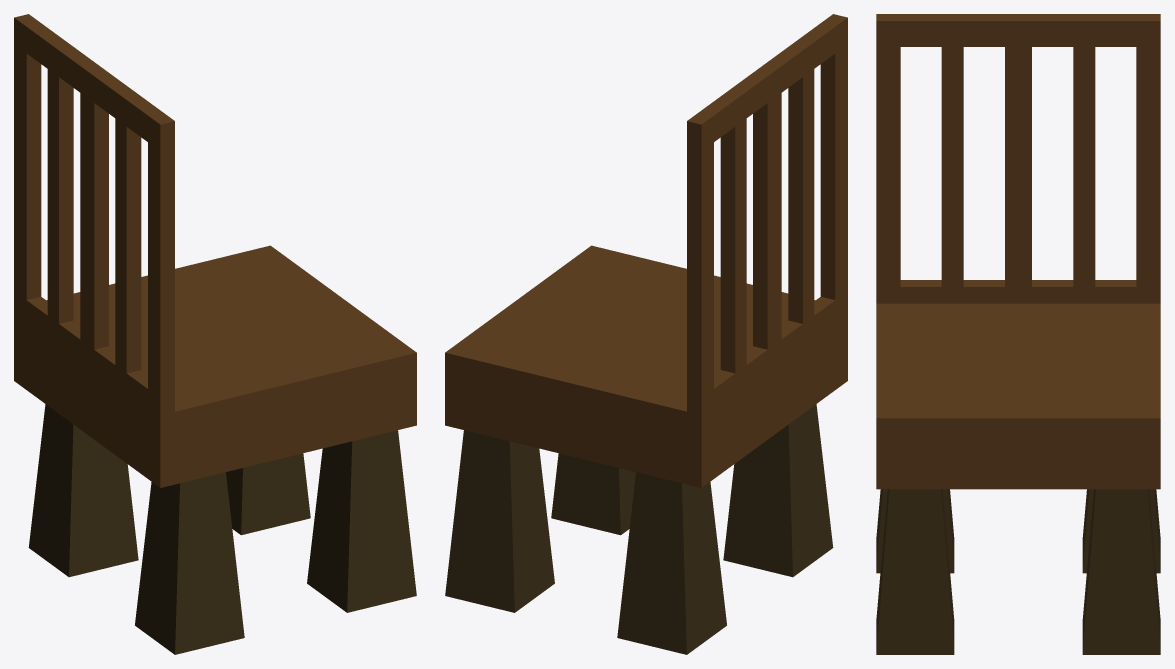
Rendered from Chair.fbx.
3 renders of one model, left to right at view 1: azimuth 30°, elevation 25°; view 2: azimuth 150°, elevation 25°; view 3: azimuth 270°, elevation 25°, orthographic. The views are drawn at different scales.
Visible parts, largest first — view 1: Cube.001; view 2: Cube.001; view 3: Cube.001.
Part boxes in pixels (<box>): Cube.001: <box>14,14,416,654</box>; Cube.001: <box>445,14,847,654</box>; Cube.001: <box>876,14,1160,654</box>.
Bounding box in the file's own units: 736 × 1464 × 727.
